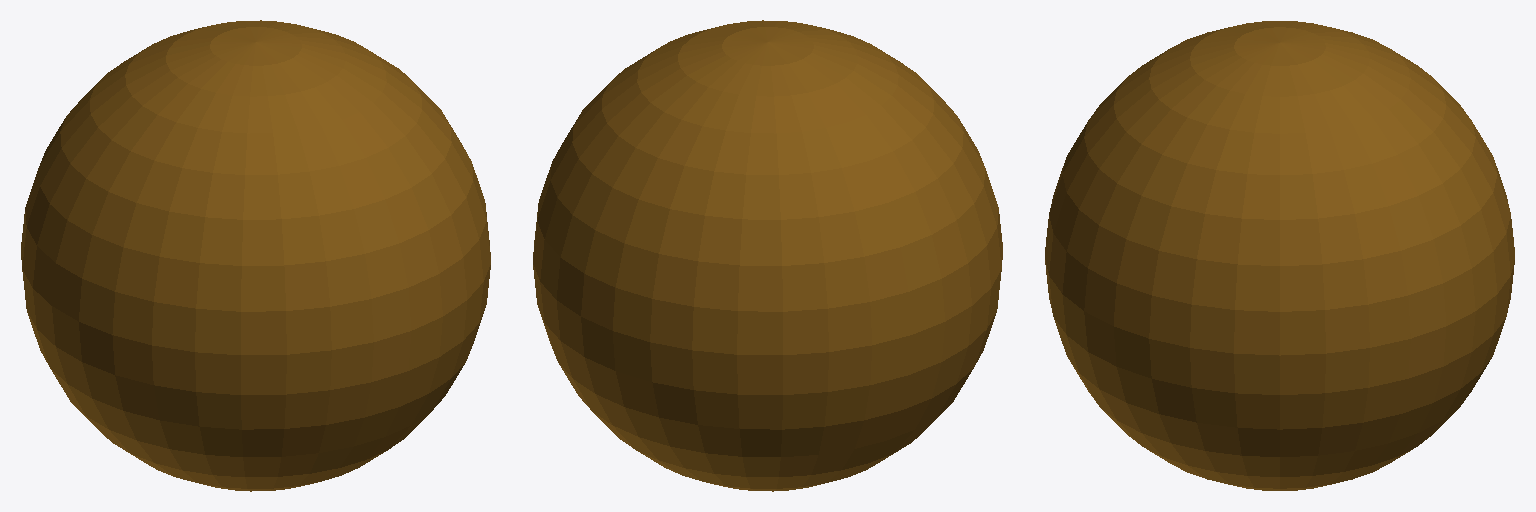
robot.urdf — sphere:
<?xml version="1.0"?>
<robot name="sphere">
  <material name="red">
    <color rgba="0.55 0.4 0.15 0.5"/>
  </material>

  <link name="base_link">
  <visual>
    <geometry>
      <sphere radius="0.15"/>
    </geometry>
    <material name="red"/>
  </visual>

  </link>
</robot>

--- What the picture shows (computed from the rendered views, not written in the file) ---
3 views of the same robot in one strip: view 1: azimuth 30°, elevation 25°; view 2: azimuth 150°, elevation 25°; view 3: azimuth 270°, elevation 25° (orthographic).
Robot: sphere — 1 links, 0 joints (none); root link base_link; default pose: every joint at zero.
Visible links, largest first — view 1: base_link; view 2: base_link; view 3: base_link.
Boxes of the visible links, left/top/right/bottom form: base_link: left=21, top=20, right=490, bottom=491; base_link: left=533, top=20, right=1002, bottom=491; base_link: left=1045, top=21, right=1514, bottom=490.
Size in the robot's own frame: 0.3 by 0.3 by 0.3 metres.
Geometry: primitives only (box / cylinder / sphere), no mesh files.